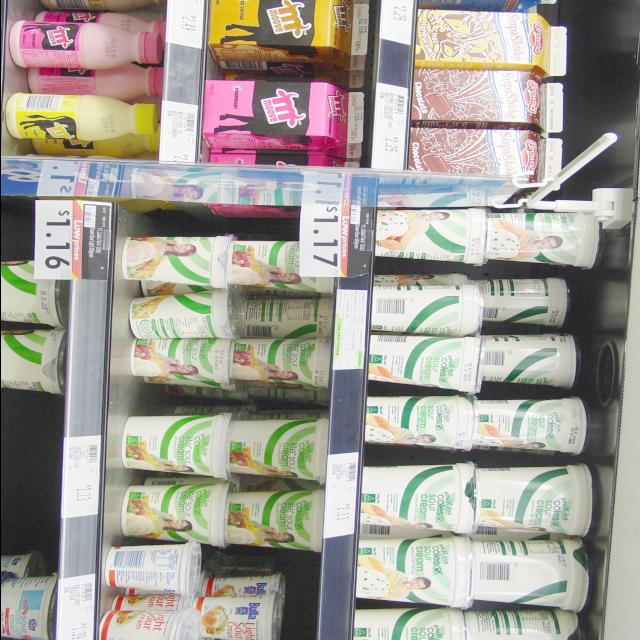empty_space: (0, 407, 63, 549)
